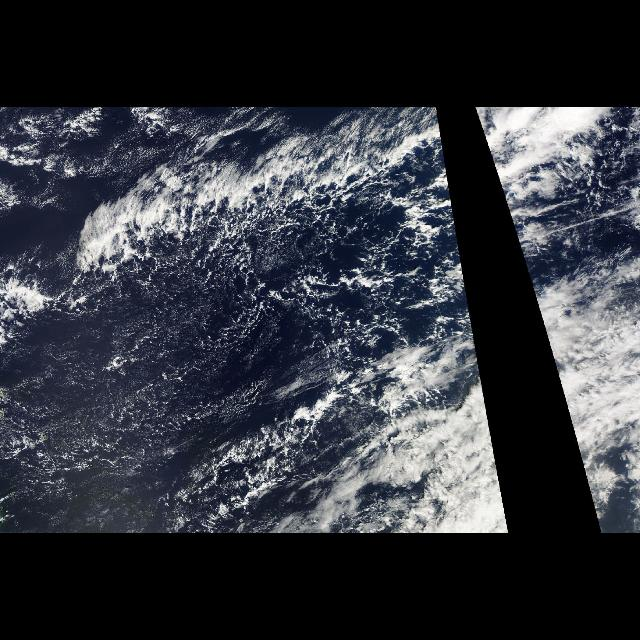Fish: (73, 111, 445, 277)
Gravel: (2, 120, 450, 512)
Sugar: (42, 285, 238, 519), (46, 128, 160, 178)
